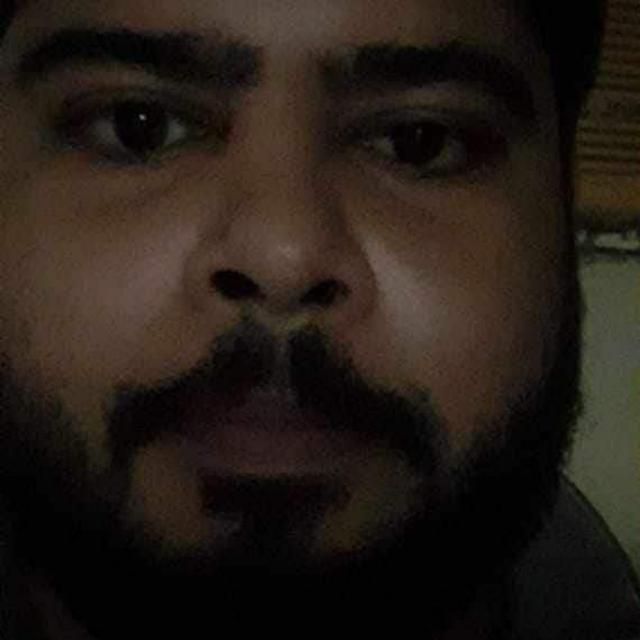Natural: (4, 1, 599, 627)
